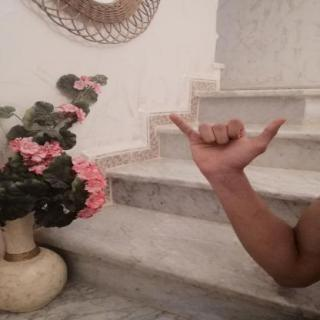YA: (156, 104, 298, 182)
